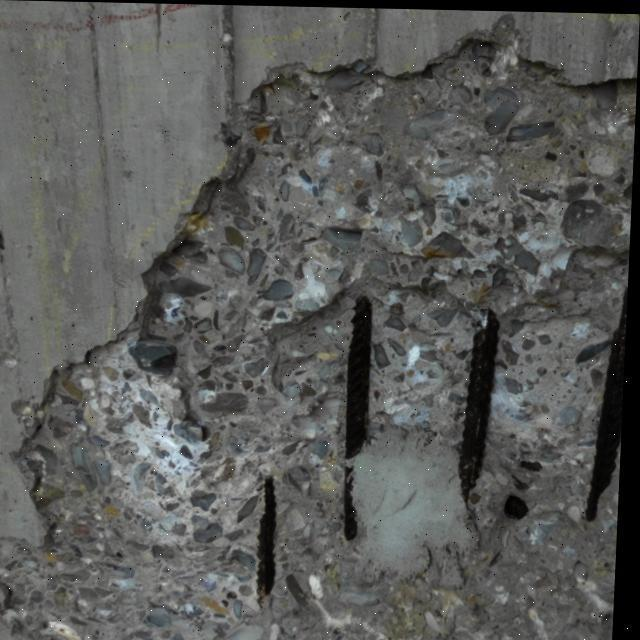D0w0: (458, 314, 499, 485), (346, 298, 371, 461), (258, 478, 276, 597)
